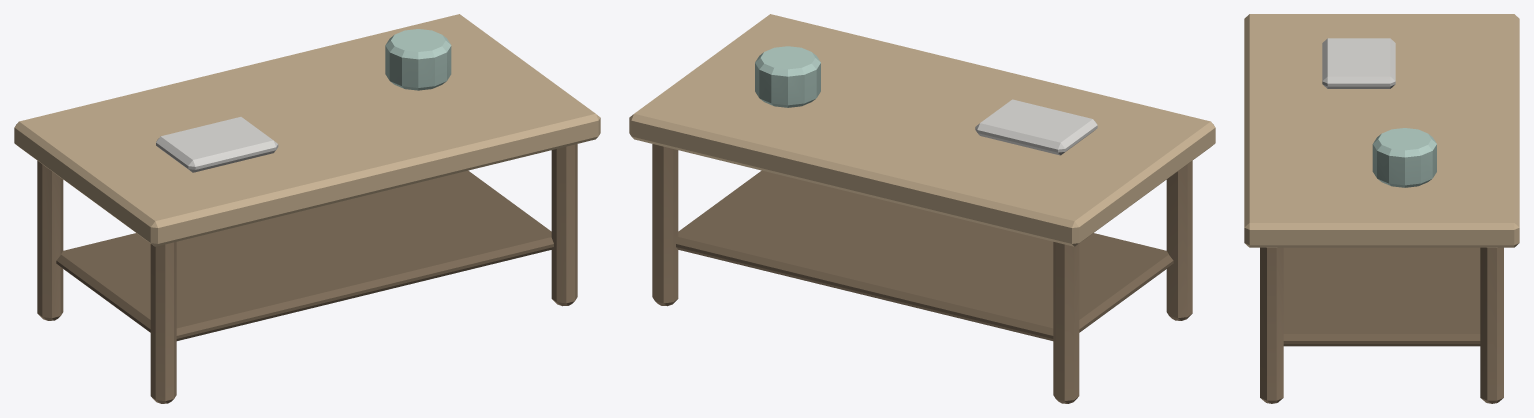
File: furn_coffee_table__oak.glb
The picture shows the model from 3 angles, left to right: view 1: azimuth 30°, elevation 25°; view 2: azimuth 150°, elevation 25°; view 3: azimuth 270°, elevation 25°; orthographic projection. The views are drawn at different scales.
Size of the model in its own units: 1.1 by 0.54 by 0.6.
